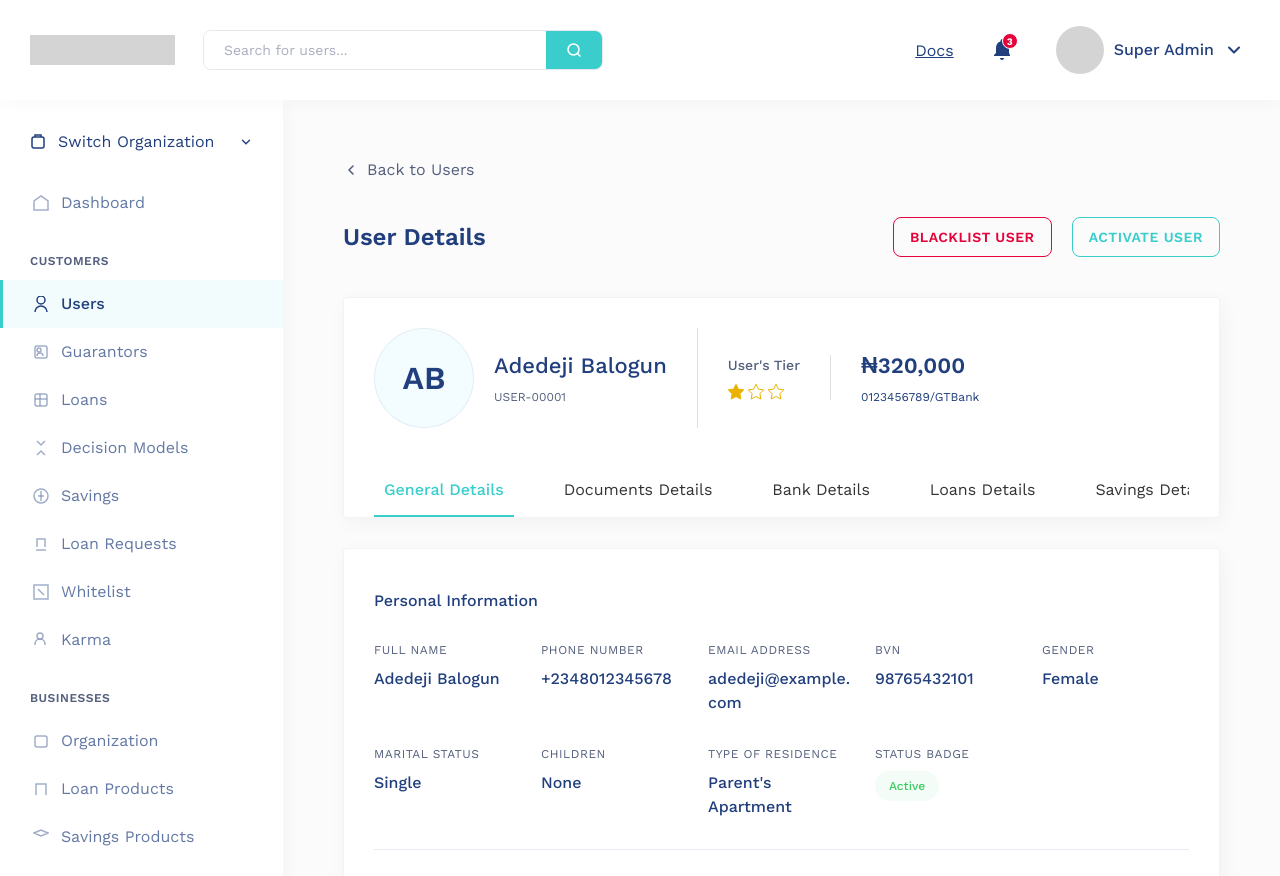
Test case: UserDetails Page and STATEFUL INTERACTIVE TABS › Bank Tab: runs BVN KYC check queries
The width and height of the screenshot is (1280, 876).
expect the heading "Adedeji Balogun" is shown: met, box left=494, top=349, right=667, bottom=382
What coordinates should you click on to do the following:
click the button "Bank Details"
I would click on:
 (821, 492)
Its box is left=762, top=468, right=880, bottom=516.
(page scrolled)
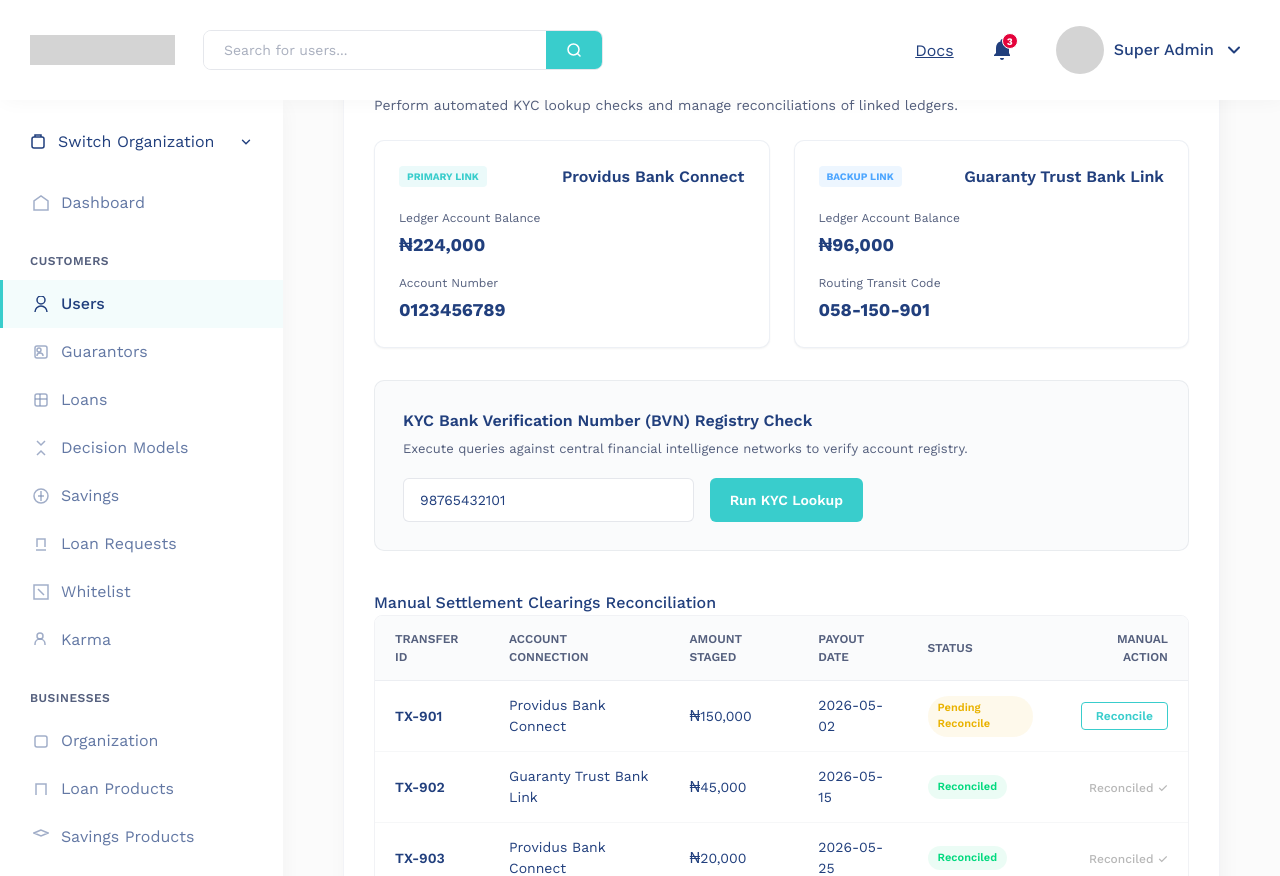
// Prefilled BVN lookup triggers registry results
What coordinates should you click on to do the following:
click the button "Run KYC Lookup"
I would click on:
 (786, 500)
Its box is left=710, top=478, right=863, bottom=522.
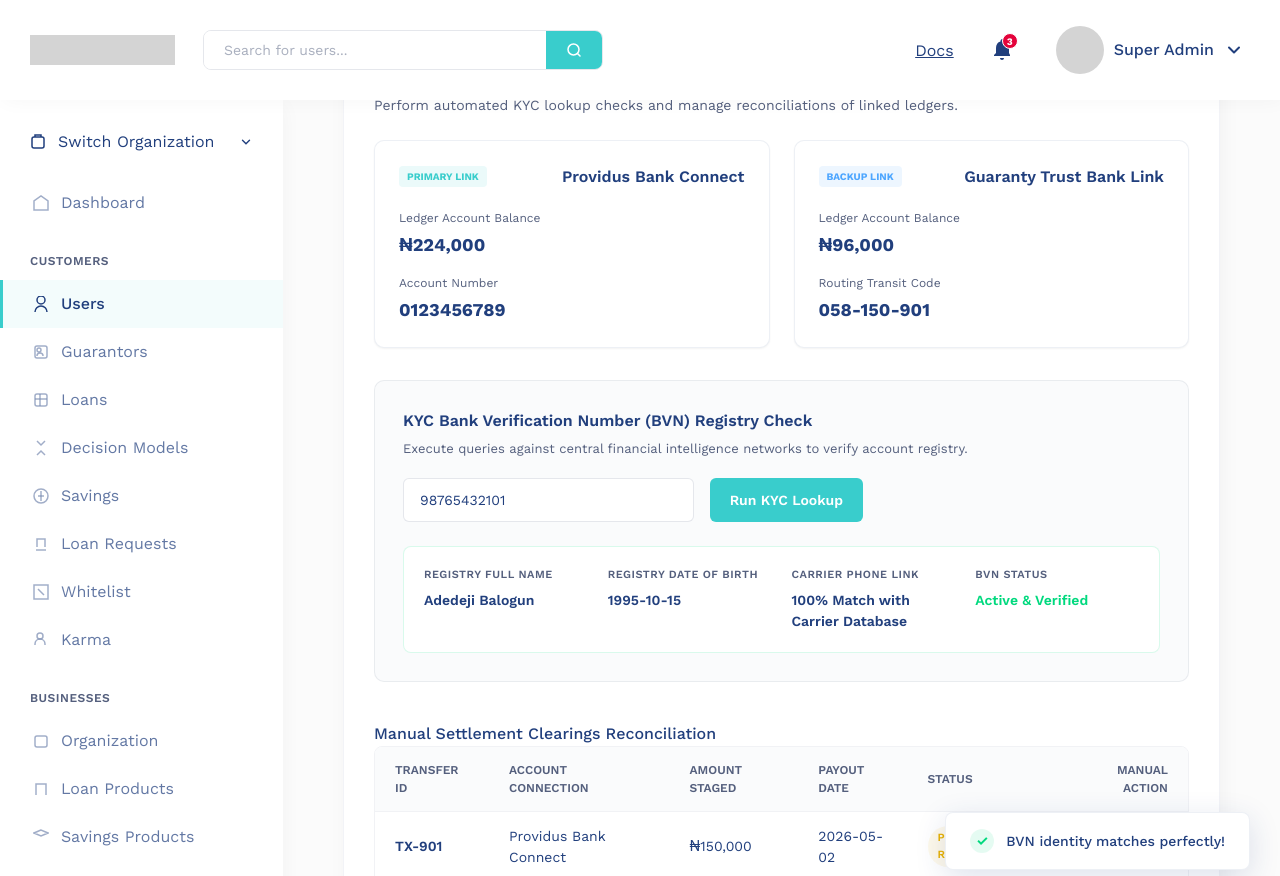
expect the text "REGISTRY FULL NAME" is shown: met, box left=424, top=568, right=553, bottom=581
expect the text "Active & Verified" is shown: met, box left=975, top=592, right=1088, bottom=608
expect the text "BVN identity matches perfectly!" is shown: met, box left=1006, top=830, right=1225, bottom=852
